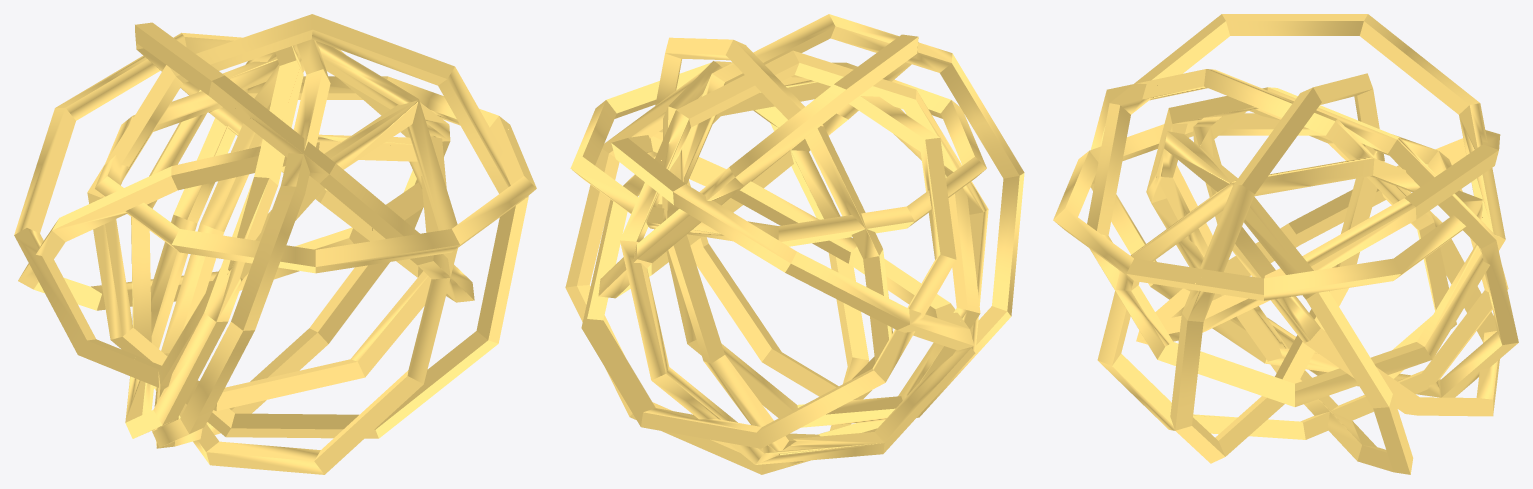
File: stepperoller.fbx
3 views of the same model, side by side, from view 1: azimuth 30°, elevation 25°; view 2: azimuth 150°, elevation 25°; view 3: azimuth 270°, elevation 25° (orthographic). The views are drawn at different scales.
Visible parts, largest first — view 1: Merge_0; view 2: Merge_0; view 3: Merge_0.
Part boxes in pixels (bbox=[...]): Merge_0: bbox=[14, 14, 536, 474]; Merge_0: bbox=[565, 14, 1024, 474]; Merge_0: bbox=[1053, 14, 1518, 474].
Size of the model in its own units: 149 by 145 by 150.
